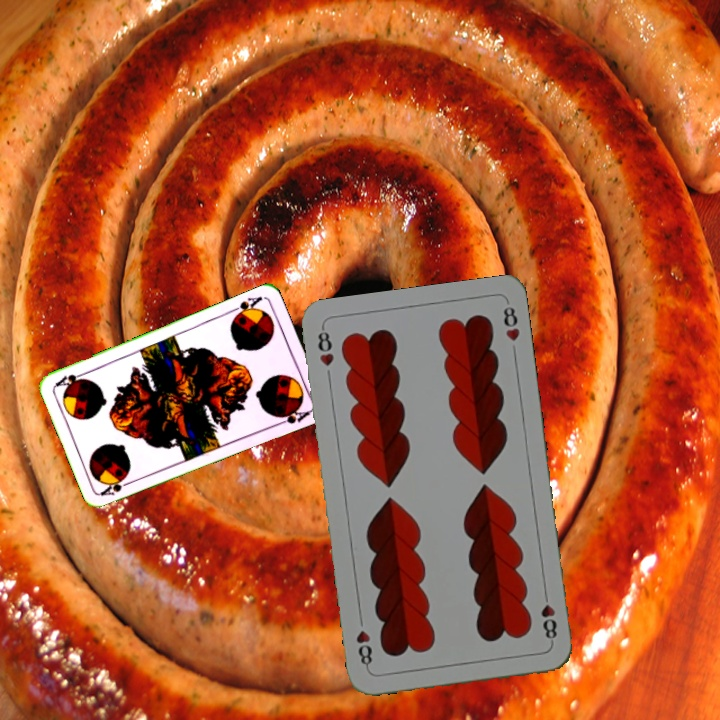H8: (537, 587, 559, 646), (314, 324, 337, 369)
SA: (226, 292, 265, 321), (97, 476, 136, 498)
